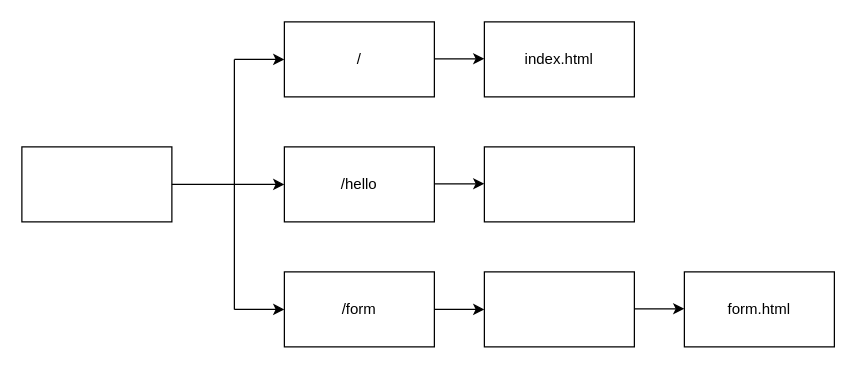
This 856x369 diagram has some shape labels left out. The shapes that lost their labels are listed below. From the top down, each one's centre as x and y in pixels, then its label:
At point (96, 184): "Server".
At point (558, 184): "helloHandler".
At point (558, 309): "formHandler".
